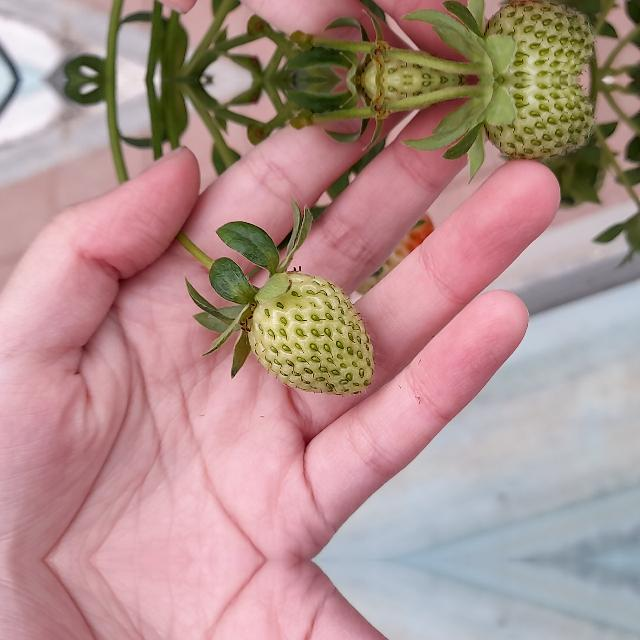Health_25: (246, 274, 374, 394), (476, 81, 594, 159), (476, 1, 594, 79)
